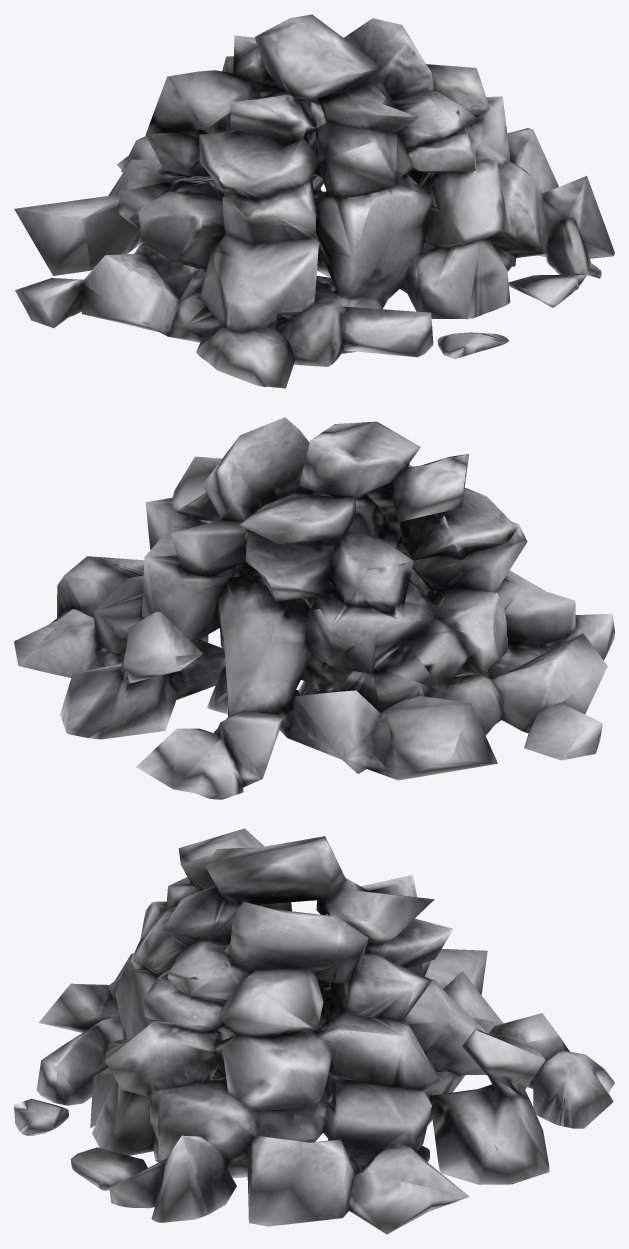
File: rock_cluster.glb
3 renders of one model, top to bottom at view 1: azimuth 30°, elevation 25°; view 2: azimuth 150°, elevation 25°; view 3: azimuth 270°, elevation 25°, orthographic. The views are drawn at different scales.
Bounding box in the file's own units: 1.88 × 0.8046 × 1.73.
Materials: 1 (1 with a texture image).
